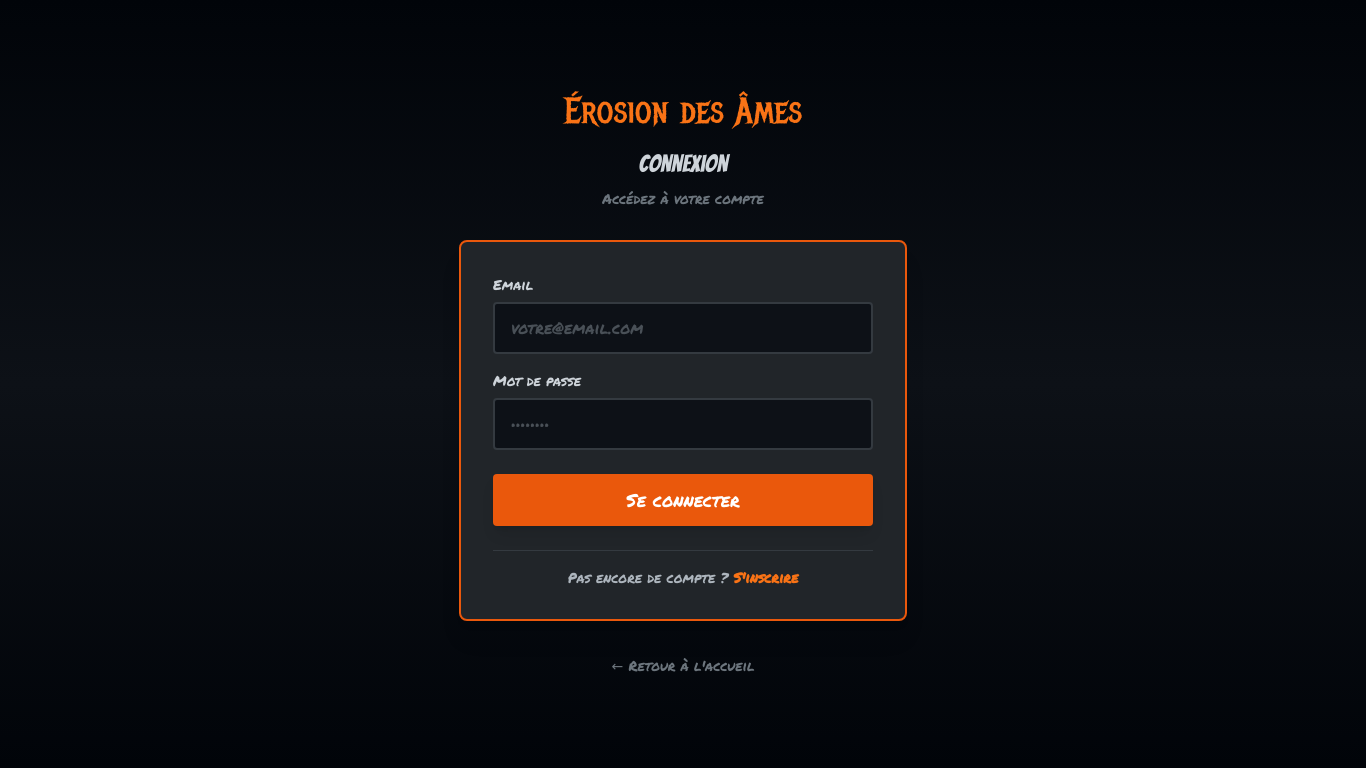
Test: Login › should display error message for 401 authentication errors
Type "test@test.com" into the field labelled "Email".
click(683, 328); type("test@test.com")  # box x1=493 y1=302 x2=873 y2=354
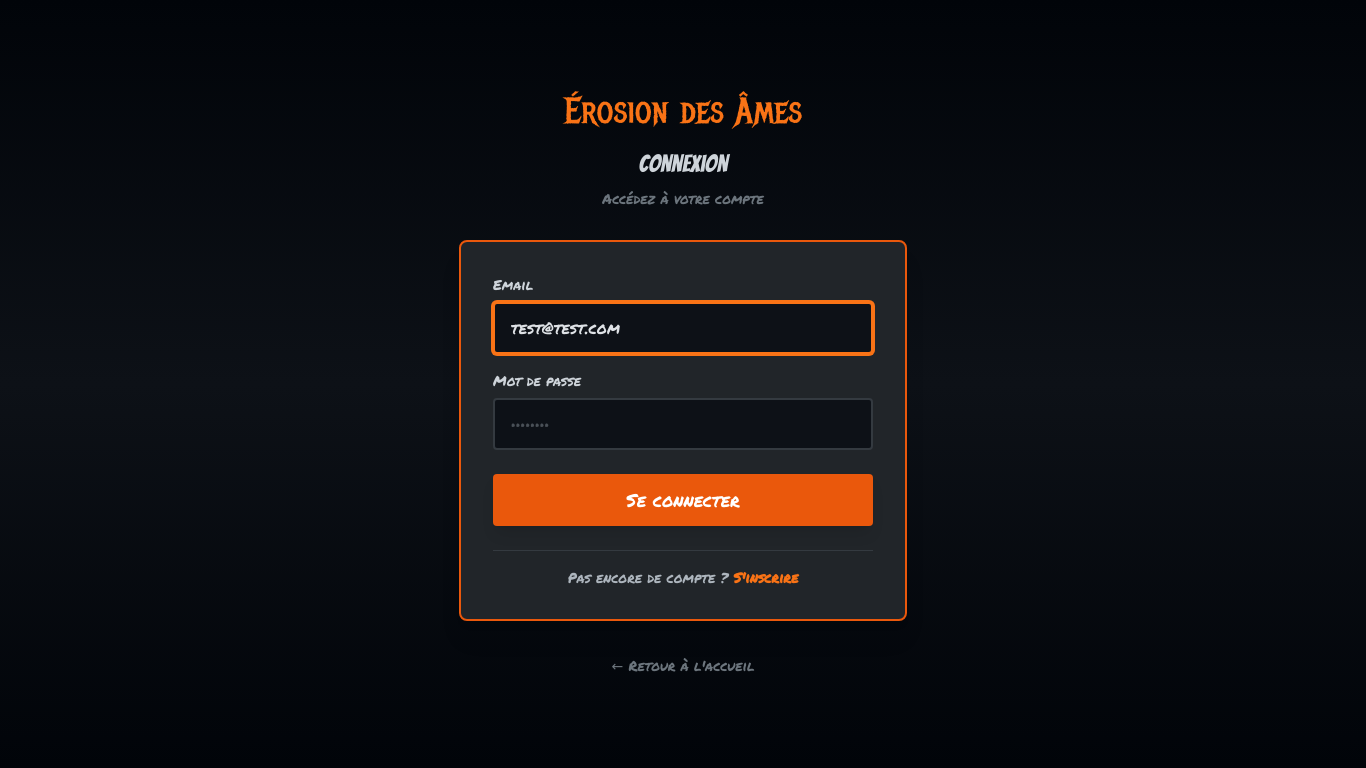
Type "wrongpassword" into the password field labelled "Mot de passe".
click(683, 424); type("wrongpassword")  # box x1=493 y1=398 x2=873 y2=450
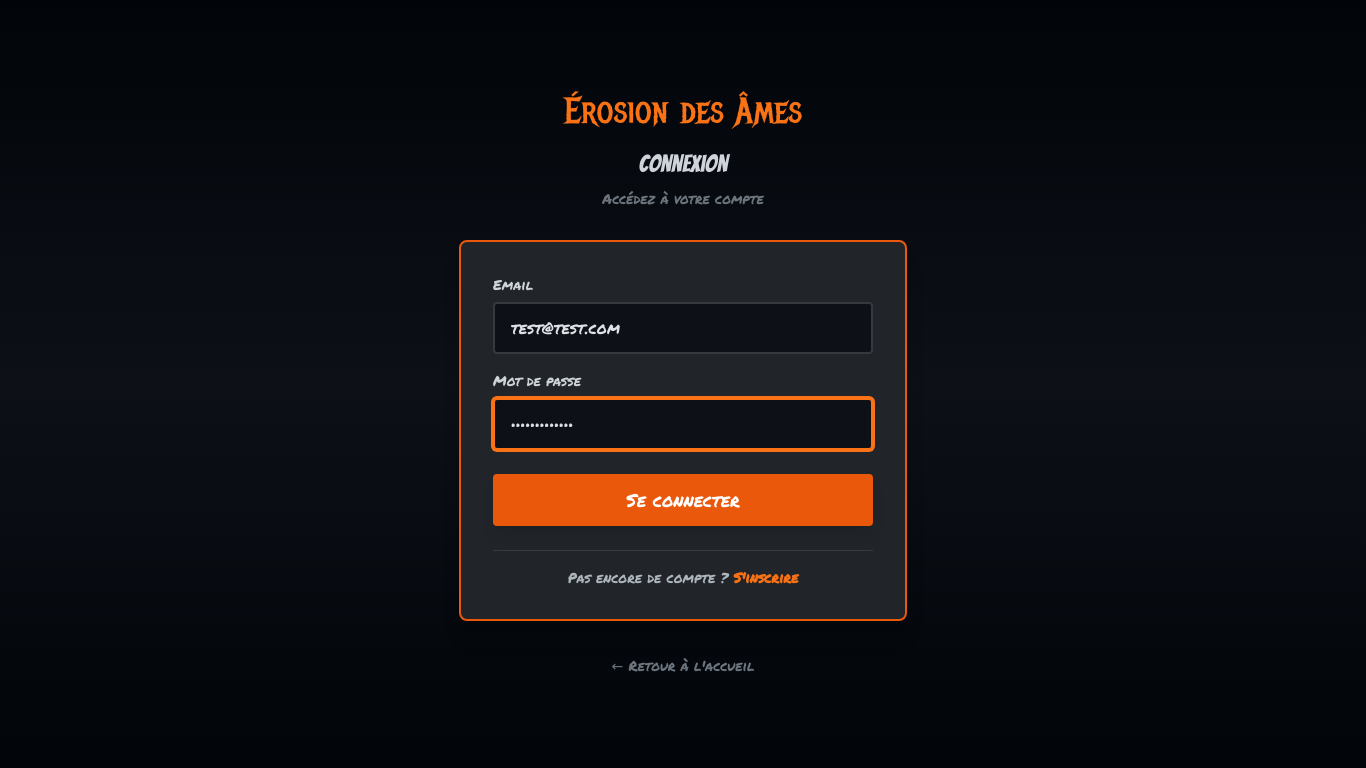
Click the button "Se connecter".
click(683, 500)  # box x1=493 y1=474 x2=873 y2=526
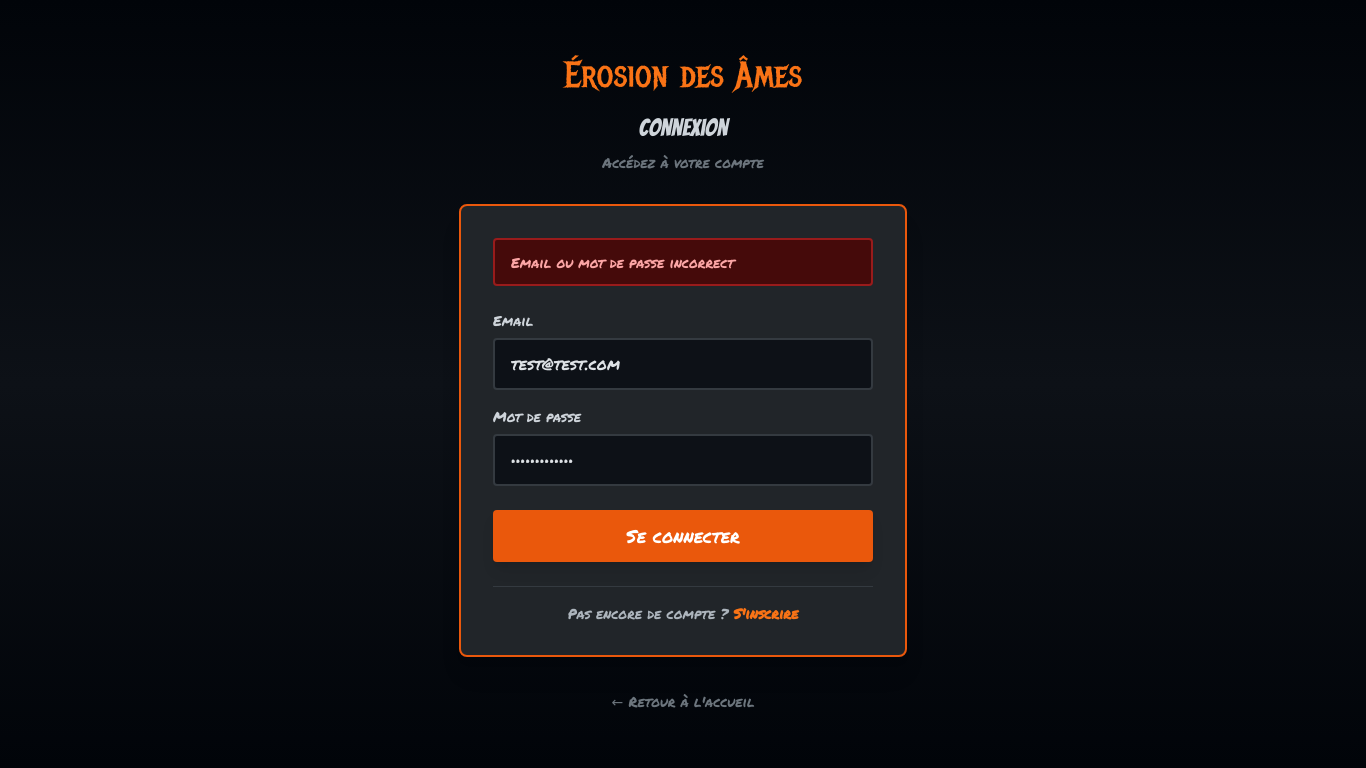
expect the text "Email ou mot de passe incorrect" is shown: met, box x1=493 y1=238 x2=873 y2=286
